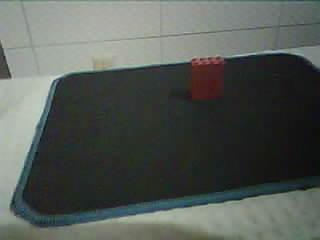lego: (188, 55, 225, 100)
